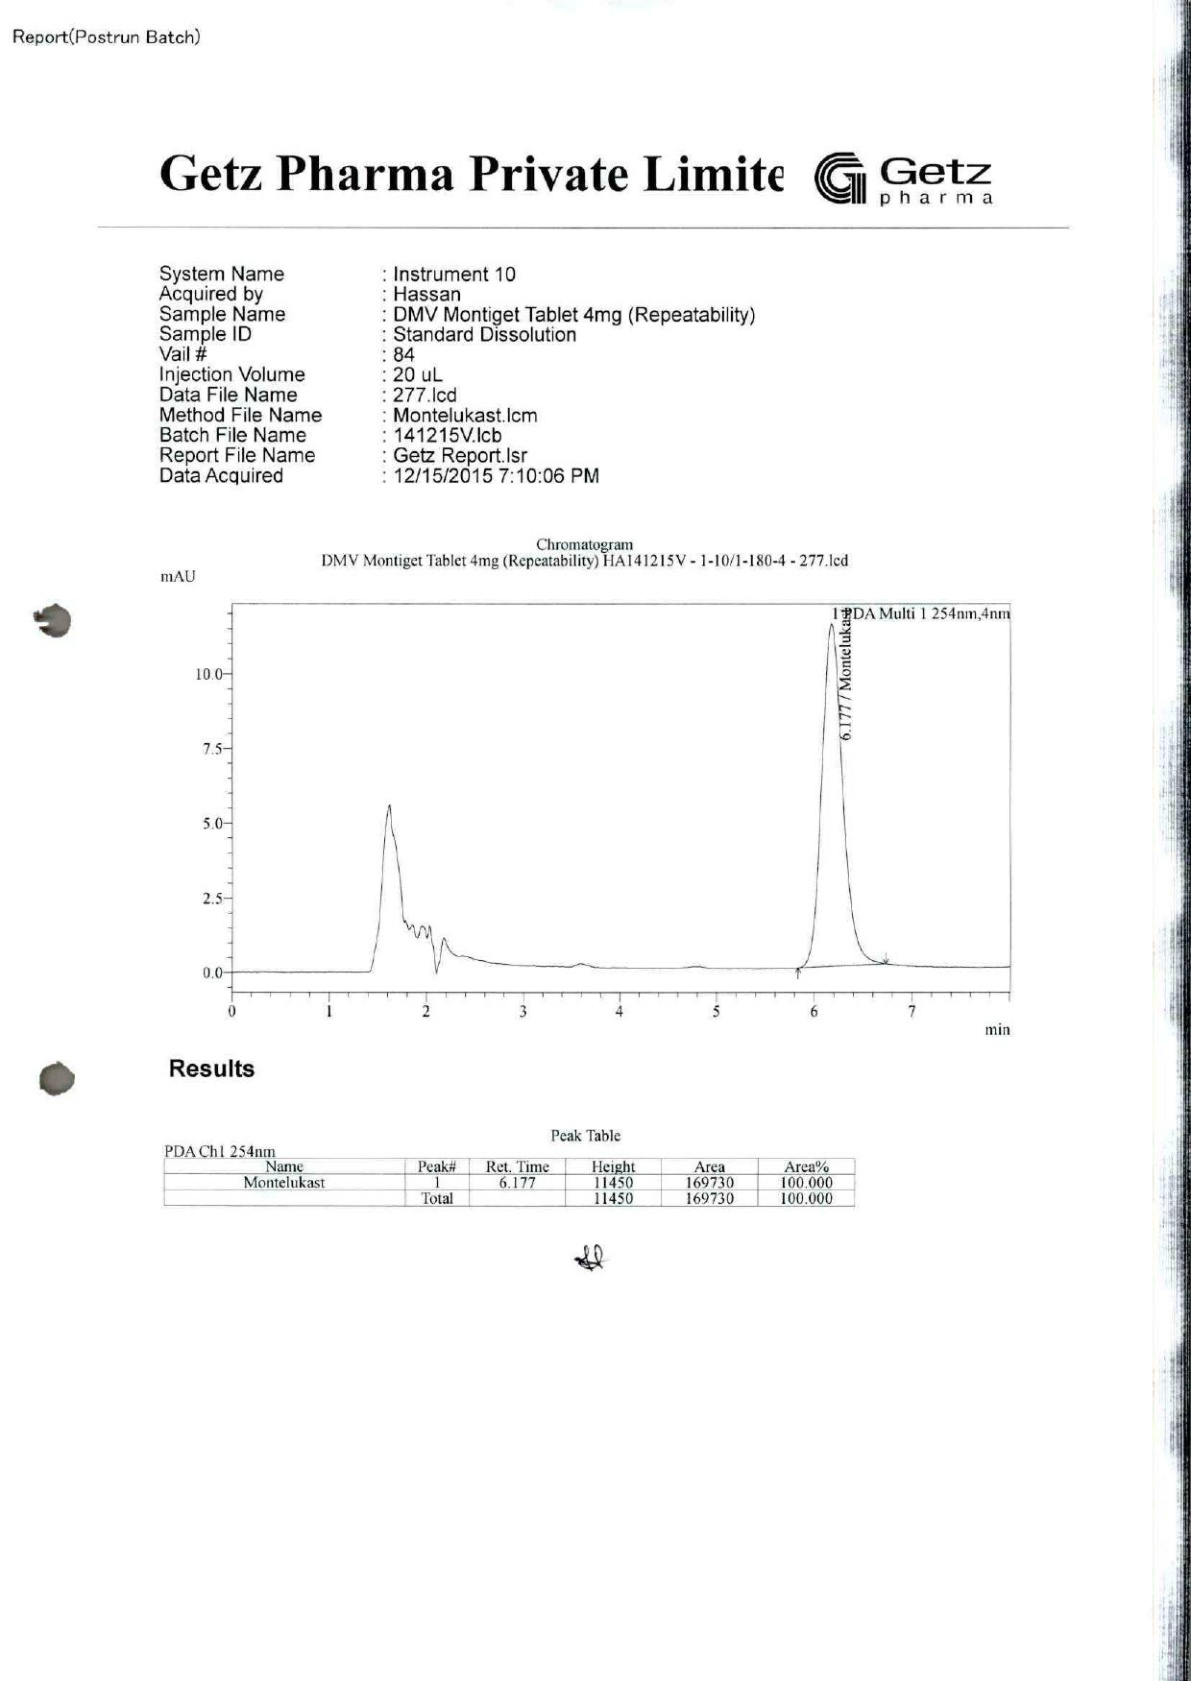full_lined: (162, 1156, 856, 1207)
nolines: (155, 260, 758, 490)
